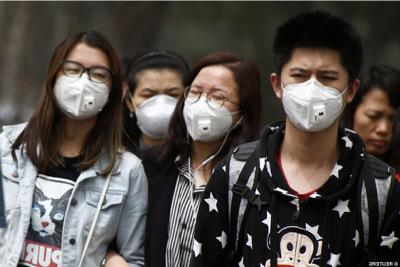with_mask: (279, 61, 349, 133), (51, 58, 112, 119), (182, 79, 241, 140), (130, 81, 185, 139)
without_mask: (353, 104, 398, 156)
